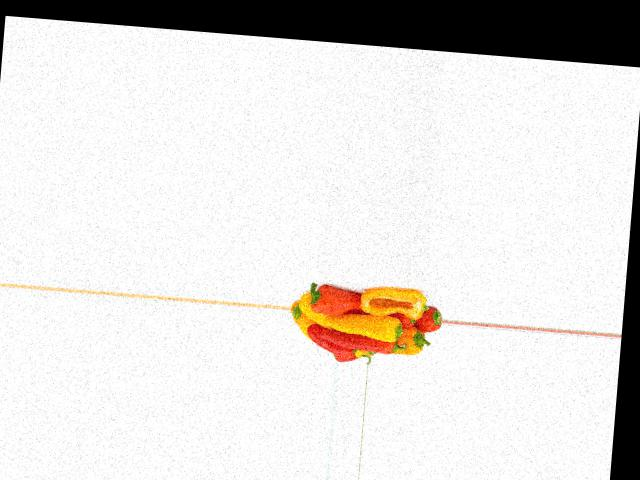bell_pepper: (398, 304, 443, 338)
